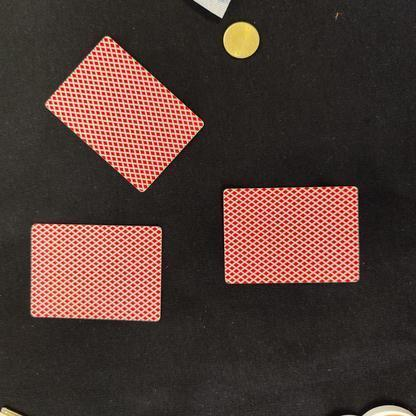card: (32, 31, 217, 196), (211, 177, 378, 296), (19, 214, 178, 334)
